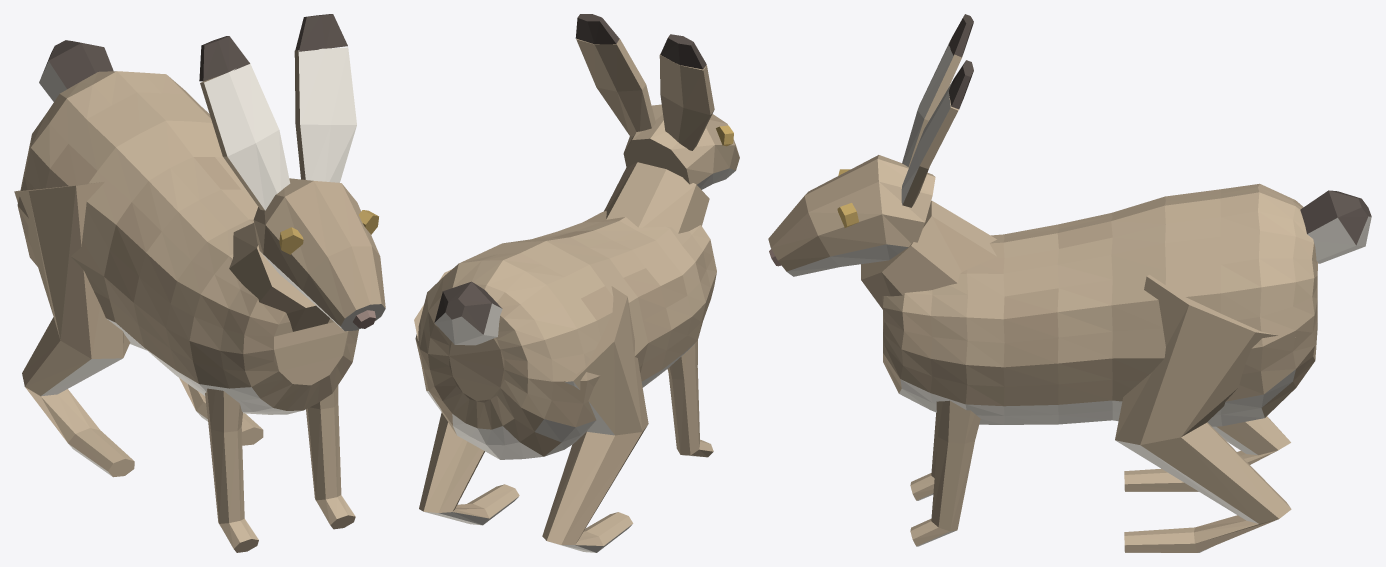
File: hare.glb
3 renders of one model, left to right at view 1: azimuth 30°, elevation 25°; view 2: azimuth 150°, elevation 25°; view 3: azimuth 270°, elevation 25°, orthographic. The views are drawn at different scales.
Parts seen in each view (by area): view 1: Body, Leg.BR, Head.Skull, Head.Ear#2, Head.Ear, Leg.FR, Head.Neck, Leg.FL, Body.Tail, Head.Ear.Tip#2, Head.Ear.Tip, Leg.BL (+1 smaller); view 2: Body, Leg.BR, Leg.BL, Head.Neck, Head.Skull, Head.Ear, Head.Ear#2, Body.Tail, Leg.FR, Head.Ear.Tip#2, Head.Ear.Tip; view 3: Body, Leg.BL, Head.Skull, Head.Neck, Leg.FL, Body.Tail, Leg.BR, Head.Ear, Head.Ear#2, Leg.FR.
Boxes of the visible parts, x1,y1,x2,y2 form: Body: (17, 71, 358, 414); Leg.BR: (14, 181, 134, 477); Head.Skull: (253, 178, 385, 331); Head.Ear#2: (200, 62, 290, 210); Head.Ear: (294, 47, 356, 182); Leg.FR: (205, 388, 258, 552); Head.Neck: (229, 223, 329, 331); Leg.FL: (306, 385, 355, 529); Body.Tail: (39, 40, 113, 101); Head.Ear.Tip#2: (199, 36, 249, 81); Head.Ear.Tip: (295, 14, 347, 51); Leg.BL: (179, 378, 263, 445); Body: (415, 211, 716, 459); Leg.BR: (542, 286, 648, 552); Leg.BL: (414, 269, 519, 525); Head.Neck: (604, 162, 709, 233); Head.Skull: (623, 104, 739, 189); Head.Ear: (576, 39, 655, 136); Head.Ear#2: (659, 53, 714, 150); Body.Tail: (434, 281, 502, 345); Leg.FR: (667, 340, 713, 457); Head.Ear.Tip#2: (660, 34, 706, 69); Head.Ear.Tip: (575, 14, 619, 44); Body: (882, 183, 1317, 426); Leg.BL: (1115, 274, 1295, 552); Head.Skull: (768, 155, 935, 276); Head.Neck: (861, 200, 996, 309); Leg.FL: (910, 400, 980, 546); Body.Tail: (1300, 190, 1371, 263); Leg.BR: (1124, 416, 1290, 491); Head.Ear: (901, 81, 958, 207); Head.Ear#2: (902, 39, 962, 167); Leg.FR: (910, 412, 937, 500).
Bounding box in the file's own units: 0.197 × 0.4412 × 0.5022.
